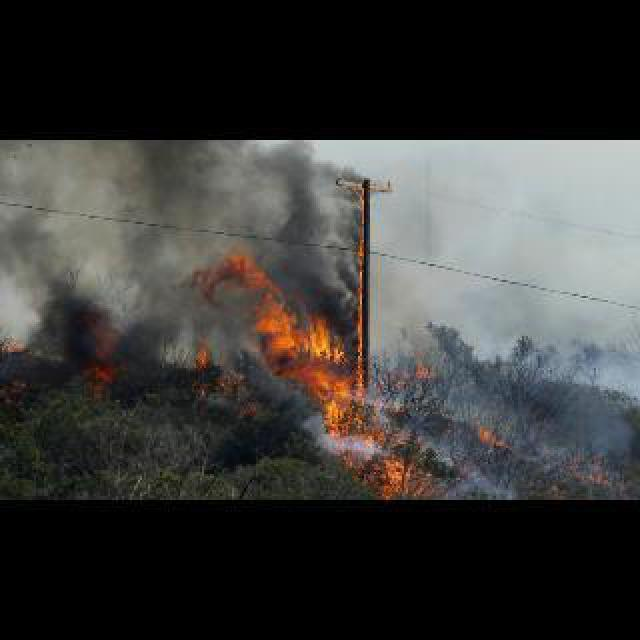Fire: (228, 208, 426, 488)
Smoke: (252, 138, 364, 326)
